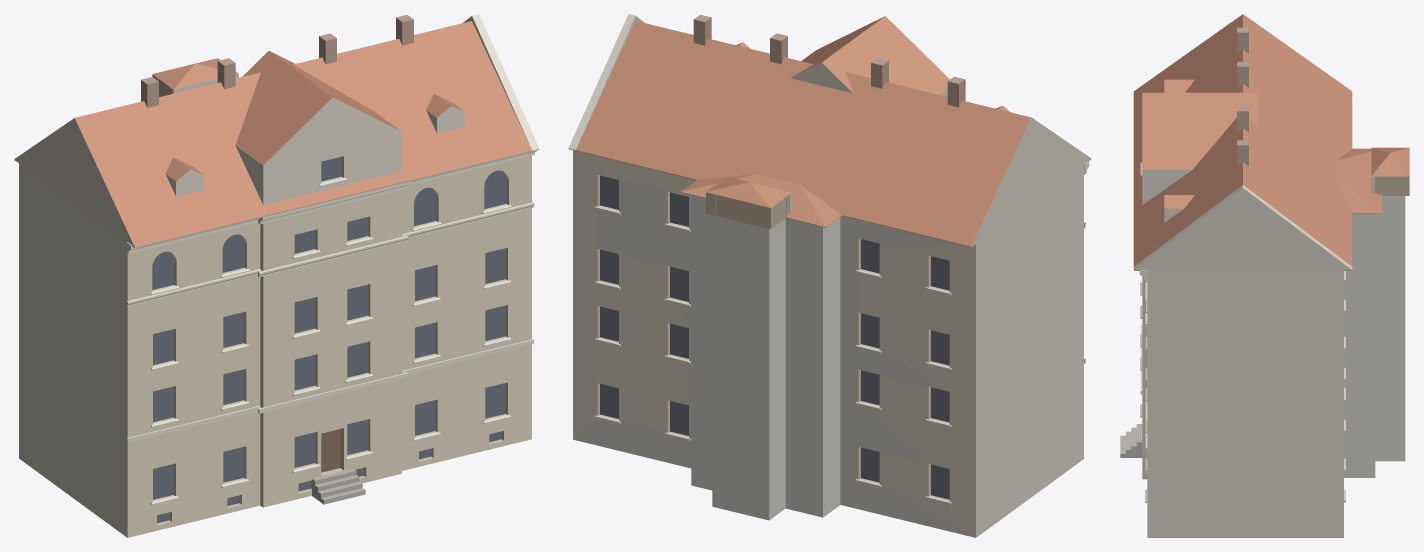
3 views of the same model, side by side, from view 1: azimuth 30°, elevation 25°; view 2: azimuth 150°, elevation 25°; view 3: azimuth 270°, elevation 25° (orthographic). The views are drawn at different scales.
Visible parts, largest first — view 1: CP_1504_Masonry, CP_1504_Roof, CP_1504_Dormer_ZG, CP_1504_Gable_L_gable, CP_1504_Gable_R_firewall, CP_1504_WingRoof_Stair_Tower, CP_1504_Cornice_main_M_0, CP_1504_Dormer_DR, CP_1504_Dormer_DL, CP_1504_Cornice_string3_M_0, CP_1504_Cornice_string1_M_0, CP_1504_Cornice_string3_L_0 (+4 smaller); view 2: CP_1504_Masonry, CP_1504_Roof, CP_1504_Rear_Risalit, CP_1504_Stair_Tower, CP_1504_Dormer_ZG, CP_1504_Gable_L_gable, CP_1504_WingRoof_Rear_Risalit, CP_1504_WingRoof_Stair_Tower, CP_1504_Gable_R_firewall, CP_1504_WingRoof_Stair_Tower_EaveClosure_3; view 3: CP_1504_Masonry, CP_1504_Roof, CP_1504_Gable_R_firewall, CP_1504_Stair_Tower, CP_1504_Rear_Risalit, CP_1504_Dormer_ZG, CP_1504_WingRoof_Rear_Risalit, CP_1504_WingRoof_Stair_Tower, CP_1504_Dormer_DR, CP_1504_WingRoof_Stair_Tower_EaveClosure_2, CP_1504_Dormer_DL.
Part boxes in pixels (x1,y1,x2,y2): CP_1504_Masonry: [19, 155, 531, 537]; CP_1504_Roof: [15, 21, 531, 247]; CP_1504_Dormer_ZG: [235, 51, 401, 204]; CP_1504_Gable_L_gable: [14, 118, 139, 247]; CP_1504_Gable_R_firewall: [463, 14, 539, 150]; CP_1504_WingRoof_Stair_Tower: [152, 58, 238, 89]; CP_1504_Cornice_main_M_0: [258, 181, 411, 224]; CP_1504_Dormer_DR: [426, 94, 464, 133]; CP_1504_Dormer_DL: [165, 157, 203, 196]; CP_1504_Cornice_string3_M_0: [258, 235, 408, 277]; CP_1504_Cornice_string1_M_0: [258, 372, 407, 413]; CP_1504_Cornice_string3_L_0: [126, 269, 261, 306]; CP_1504_Masonry: [573, 150, 1083, 537]; CP_1504_Roof: [576, 21, 1089, 246]; CP_1504_Rear_Risalit: [691, 195, 840, 517]; CP_1504_Stair_Tower: [712, 215, 785, 520]; CP_1504_Dormer_ZG: [790, 16, 949, 96]; CP_1504_Gable_L_gable: [967, 118, 1091, 246]; CP_1504_WingRoof_Rear_Risalit: [681, 174, 841, 226]; CP_1504_WingRoof_Stair_Tower: [706, 176, 791, 207]; CP_1504_Gable_R_firewall: [568, 14, 644, 149]; CP_1504_WingRoof_Stair_Tower_EaveClosure_3: [716, 194, 776, 228]; CP_1504_Masonry: [1142, 270, 1343, 537]; CP_1504_Roof: [1133, 14, 1352, 266]; CP_1504_Gable_R_firewall: [1133, 185, 1352, 269]; CP_1504_Stair_Tower: [1375, 196, 1405, 461]; CP_1504_Rear_Risalit: [1344, 213, 1375, 477]; CP_1504_Dormer_ZG: [1142, 92, 1257, 204]; CP_1504_WingRoof_Rear_Risalit: [1337, 148, 1382, 212]; CP_1504_WingRoof_Stair_Tower: [1371, 147, 1409, 176]; CP_1504_Dormer_DR: [1164, 195, 1194, 222]; CP_1504_WingRoof_Stair_Tower_EaveClosure_2: [1381, 176, 1409, 195]; CP_1504_Dormer_DL: [1164, 79, 1194, 92].
Size of the model in its own units: 24.85 by 23.4 by 16.93.
